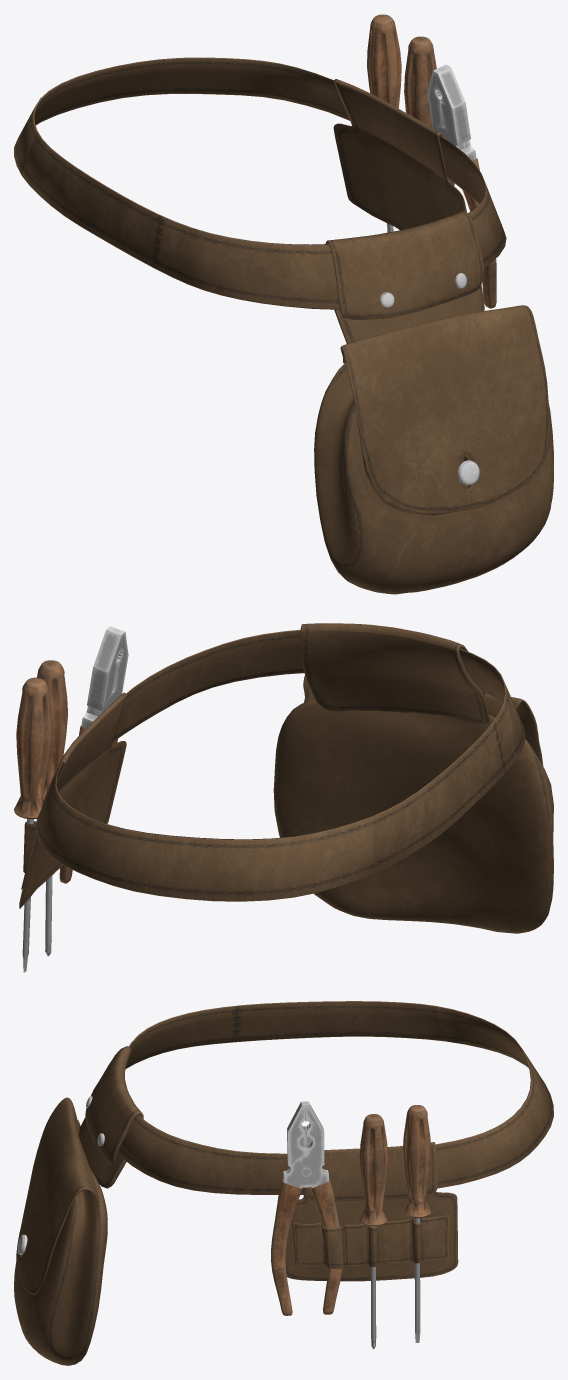
Rendered from cinto.glb.
The picture shows the model from 3 angles, top to bottom: view 1: azimuth 30°, elevation 25°; view 2: azimuth 150°, elevation 25°; view 3: azimuth 270°, elevation 25°; orthographic projection. The views are drawn at different scales.
Visible parts, largest first — view 1: Tasche_LP; view 2: Tasche_LP; view 3: Tasche_LP.
Part boxes in pixels (box(x1,y1,x2,y2)): Tasche_LP: box(14, 14, 553, 594); Tasche_LP: box(14, 623, 553, 972); Tasche_LP: box(14, 1001, 553, 1365).
Bounding box in the file's own units: 0.4415 × 0.3957 × 0.6502.
1 material, 1 textured.
